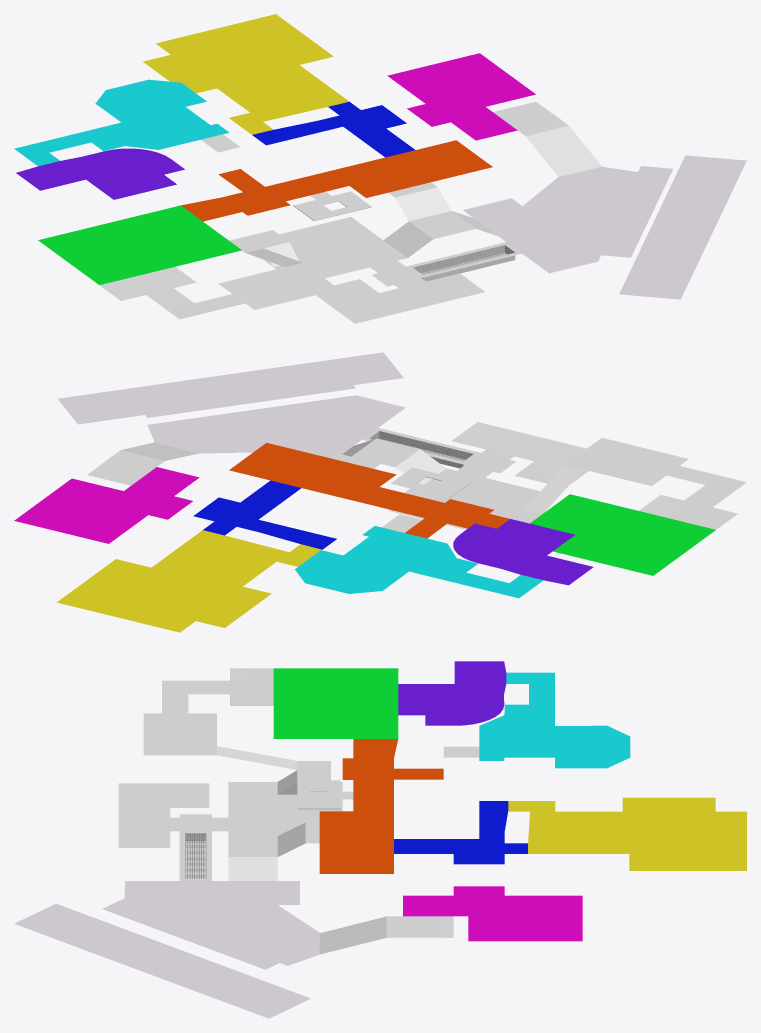
The model's file is Floor.fbx.
3 renders of one model, top to bottom at view 1: azimuth 30°, elevation 25°; view 2: azimuth 150°, elevation 25°; view 3: azimuth 270°, elevation 25°, orthographic. The views are drawn at different scales.
Visible parts, largest first — view 1: Floor Maintenance, Floor_Large_Office, Floor_Kitchen_Lower, Floor_Large_Corridor, Floor_Maintenance_DropDown, Floor_Server_Room, Floor_Maintenance_With Pipes, Floor_OfficeEntry, Floor_Kithcen_Upper, Floor_Maintenance_OfficeEntry, Floor_Office_Corridor, Floor_Maintenance_Kitchen1 (+4 smaller); view 2: Floor Maintenance, Floor_Large_Office, Floor_Large_Corridor, Floor_Kitchen_Lower, Floor_Server_Room, Floor_OfficeEntry, Floor_Maintenance_With Pipes, Floor_Kithcen_Upper, Floor_Maintenance_DropDown, Floor_Office_Corridor, Floor_Maintenance_Kitchen1, Floor_Maintenance_Kitchen2 (+4 smaller); view 3: Floor Maintenance, Floor_Large_Office, Floor_Kitchen_Lower, Floor_Large_Corridor, Floor_Server_Room, Floor_OfficeEntry, Floor_Maintenance_DropDown, Floor_Maintenance_With Pipes, Floor_Kithcen_Upper, Floor_Office_Corridor, Floor_Maintenance_Kitchen2, Floor_Maintenance_Kitchen1 (+4 smaller).
Part boxes in pixels (x1=…): Floor Maintenance: x1=463, y1=155, x2=746, y2=299; Floor_Large_Office: x1=143, y1=14, x2=348, y2=134; Floor_Kitchen_Lower: x1=38, y1=205, x2=241, y2=284; Floor_Large_Corridor: x1=181, y1=140, x2=492, y2=221; Floor_Maintenance_DropDown: x1=263, y1=182, x2=497, y2=278; Floor_Server_Room: x1=14, y1=79, x2=228, y2=166; Floor_Maintenance_With Pipes: x1=316, y1=242, x2=521, y2=323; Floor_OfficeEntry: x1=387, y1=53, x2=535, y2=140; Floor_Kithcen_Upper: x1=16, y1=148, x2=184, y2=199; Floor_Maintenance_OfficeEntry: x1=493, y1=101, x2=601, y2=176; Floor_Office_Corridor: x1=252, y1=101, x2=414, y2=157; Floor_Maintenance_Kitchen1: x1=218, y1=263, x2=338, y2=309; Floor Maintenance: x1=58, y1=352, x2=405, y2=457; Floor_Large_Office: x1=57, y1=530, x2=321, y2=632; Floor_Large_Corridor: x1=229, y1=442, x2=509, y2=538; Floor_Kitchen_Lower: x1=530, y1=494, x2=715, y2=575; Floor_Server_Room: x1=295, y1=526, x2=543, y2=598; Floor_OfficeEntry: x1=14, y1=467, x2=199, y2=543; Floor_Maintenance_With Pipes: x1=362, y1=422, x2=588, y2=484; Floor_Kithcen_Upper: x1=453, y1=519, x2=593, y2=585; Floor_Maintenance_DropDown: x1=330, y1=438, x2=540, y2=529; Floor_Office_Corridor: x1=193, y1=480, x2=336, y2=549; Floor_Maintenance_Kitchen1: x1=565, y1=438, x2=688, y2=485; Floor_Maintenance_Kitchen2: x1=639, y1=466, x2=746, y2=529; Floor Maintenance: x1=14, y1=881, x2=320, y2=1018; Floor_Large_Office: x1=508, y1=797, x2=746, y2=870; Floor_Kitchen_Lower: x1=273, y1=668, x2=398, y2=738; Floor_Large_Corridor: x1=319, y1=739, x2=443, y2=873; Floor_Server_Room: x1=479, y1=672, x2=630, y2=768; Floor_OfficeEntry: x1=403, y1=886, x2=582, y2=941; Floor_Maintenance_DropDown: x1=228, y1=782, x2=342, y2=880; Floor_Maintenance_With Pipes: x1=118, y1=783, x2=228, y2=880; Floor_Kithcen_Upper: x1=398, y1=661, x2=506, y2=725; Floor_Office_Corridor: x1=394, y1=801, x2=527, y2=864; Floor_Maintenance_Kitchen2: x1=162, y1=668, x2=273, y2=713; Floor_Maintenance_Kitchen1: x1=143, y1=713, x2=216, y2=755.
Size of the model in its own units: 7280 by 598 by 7072.
